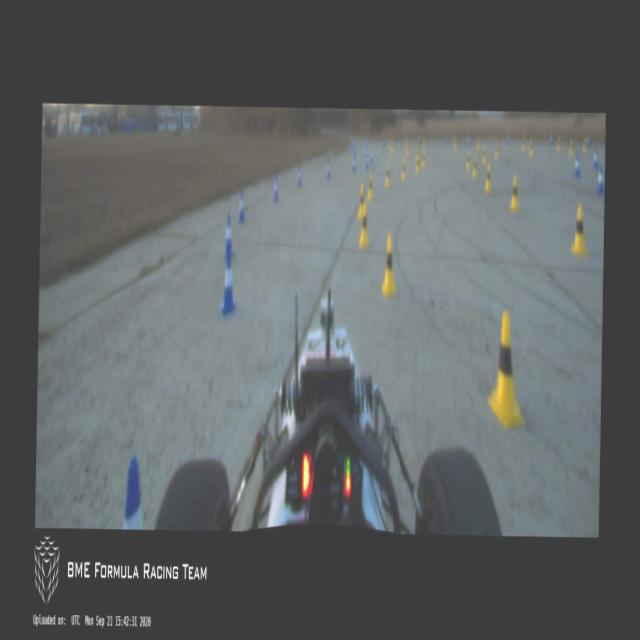blue_cone: (123, 456, 144, 530), (220, 256, 236, 313), (222, 214, 235, 260), (237, 189, 246, 222), (596, 166, 604, 195), (573, 151, 581, 177), (272, 176, 279, 202), (592, 145, 598, 170), (296, 166, 302, 186), (351, 154, 356, 174), (352, 139, 357, 156), (326, 160, 330, 178), (365, 153, 369, 170), (369, 149, 374, 162), (548, 132, 552, 148), (586, 134, 590, 150), (346, 142, 351, 154), (364, 139, 368, 152), (417, 134, 420, 146), (507, 135, 510, 144), (445, 135, 447, 144), (467, 136, 469, 144), (384, 136, 386, 144)
yellow_cone: (486, 310, 526, 431), (570, 203, 588, 256), (382, 235, 396, 295), (358, 204, 370, 246), (509, 176, 520, 210), (358, 184, 366, 219), (484, 165, 491, 192), (384, 162, 390, 188), (368, 173, 373, 201), (400, 159, 406, 181), (472, 156, 478, 178), (528, 138, 534, 154), (415, 154, 420, 172), (421, 150, 426, 168), (466, 152, 471, 170), (568, 139, 573, 155), (482, 148, 486, 164), (556, 135, 560, 151), (582, 136, 586, 152), (390, 140, 394, 154), (522, 138, 526, 151), (495, 142, 498, 159), (476, 134, 479, 150), (415, 145, 419, 157), (453, 136, 456, 148), (406, 140, 408, 156), (422, 138, 425, 148), (404, 137, 406, 150)
